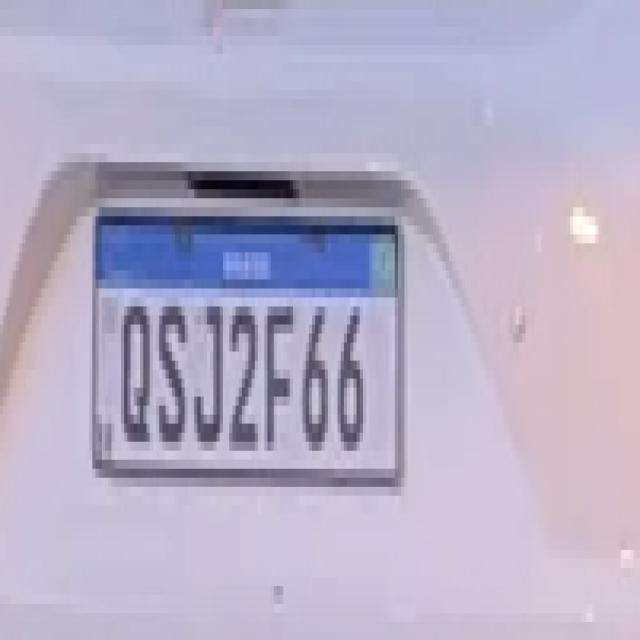Placa_mercosul_carro: (92, 212, 404, 492)
